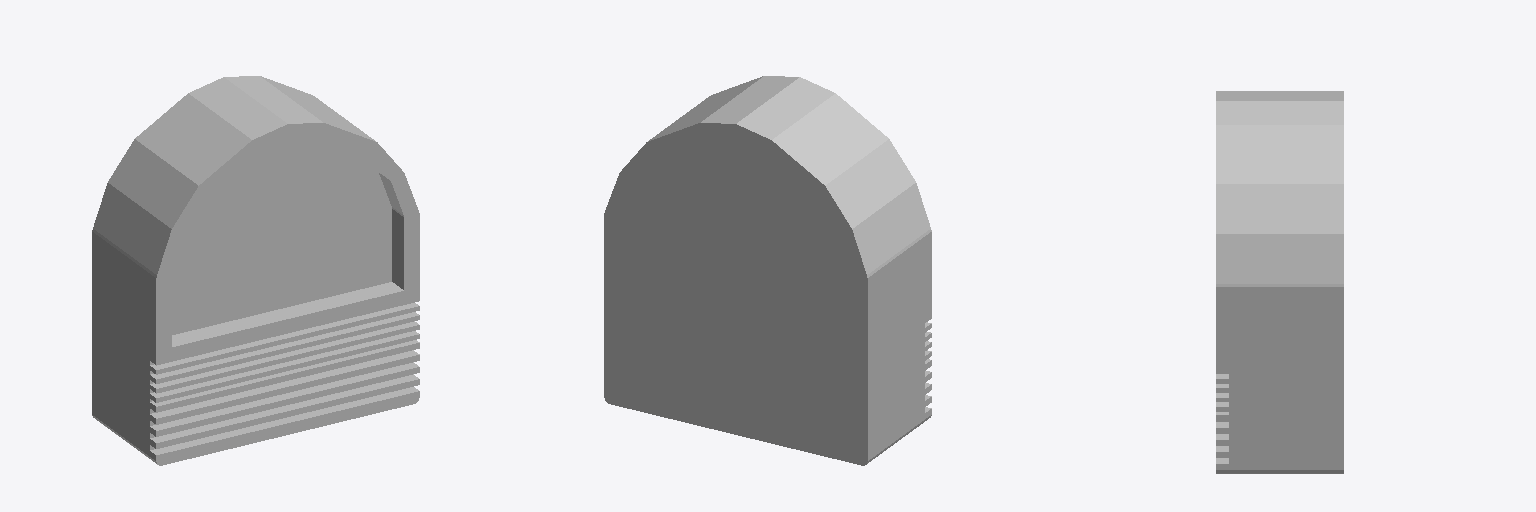
The model's file is radio_main_2.obj.
3 renders of one model, left to right at view 1: azimuth 30°, elevation 25°; view 2: azimuth 150°, elevation 25°; view 3: azimuth 270°, elevation 25°, orthographic.
Bounding box in the file's own units: 4.81 × 5.42 × 2.03.